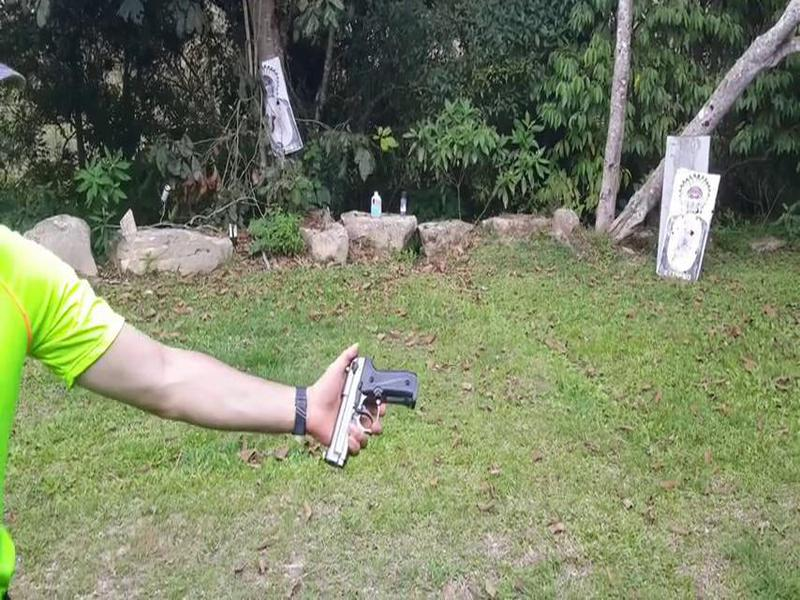Pistola: (317, 351, 422, 478)
